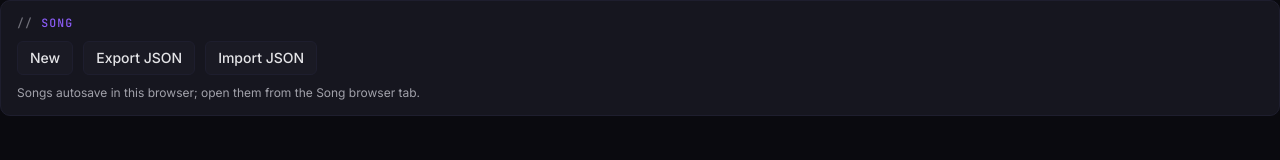
SongIO › exports a JSON download
Click the button with test id "export-song" at (139, 58), box [83, 41, 195, 75]
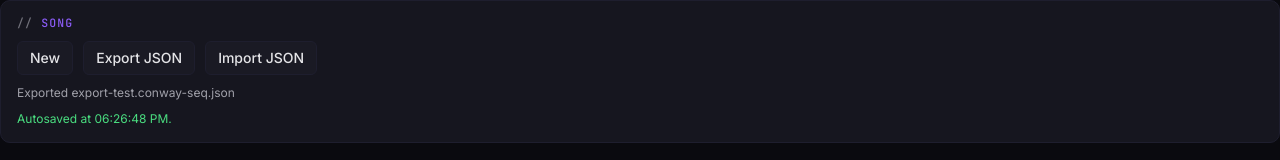
Now the text with test id "io-message" shows "export-test.conway-seq.json", box [17, 85, 235, 100]
